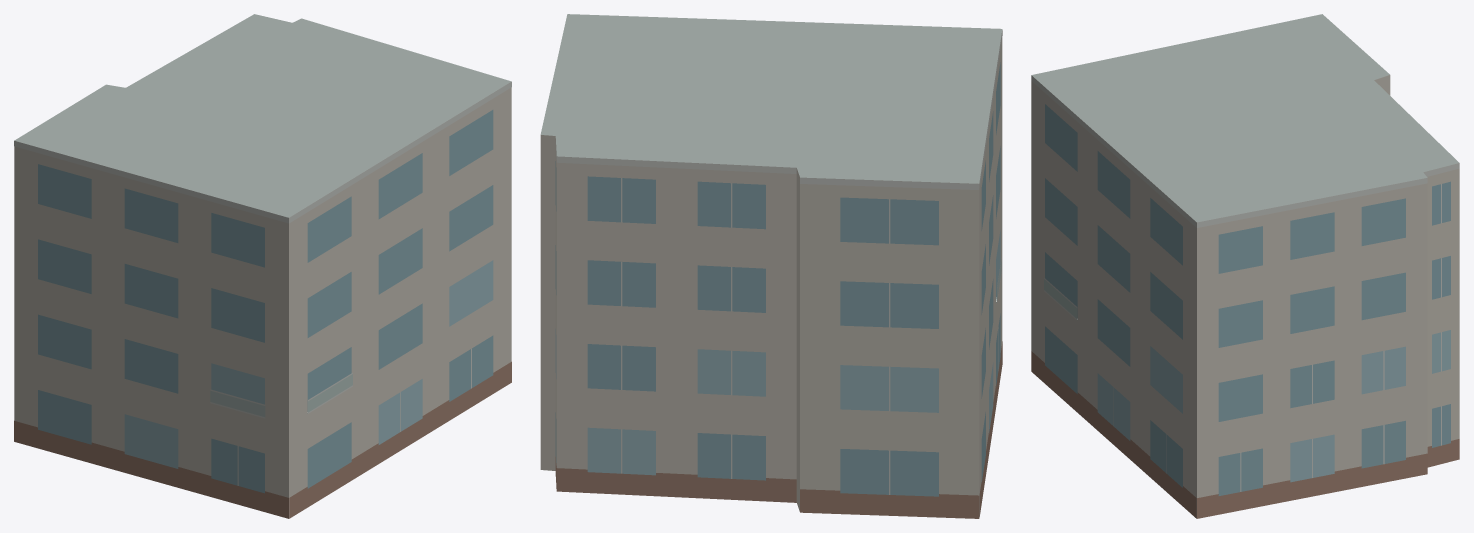
File: survey-upis-32995313.glb
The picture shows the model from 3 angles, left to right: view 1: azimuth 30°, elevation 25°; view 2: azimuth 150°, elevation 25°; view 3: azimuth 270°, elevation 25°; orthographic projection. The views are drawn at different scales.
Parts seen in each view (by area): view 1: survey-upis-32995313.tmp; view 2: survey-upis-32995313.tmp; view 3: survey-upis-32995313.tmp.
Boxes of the visible parts, bbox=[...] form: survey-upis-32995313.tmp: bbox=[14, 14, 511, 518]; survey-upis-32995313.tmp: bbox=[540, 14, 1002, 518]; survey-upis-32995313.tmp: bbox=[1031, 14, 1459, 518].
Bounding box in the file's own units: 19.47 × 12.9 × 16.91.
